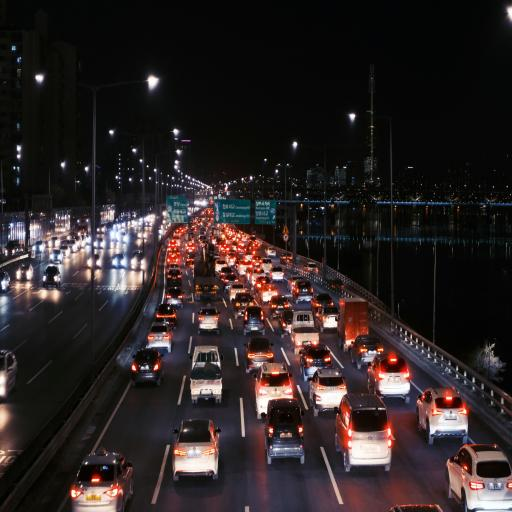car: (446, 445, 511, 511), (336, 394, 391, 471), (71, 448, 133, 511), (173, 420, 221, 480), (417, 388, 468, 444), (266, 399, 304, 463), (253, 363, 293, 418), (368, 354, 410, 403), (308, 368, 347, 416), (299, 344, 333, 382), (132, 348, 163, 386), (351, 335, 383, 369), (244, 337, 273, 373), (0, 350, 17, 397), (147, 322, 172, 352), (198, 304, 219, 334), (315, 305, 338, 332), (244, 306, 264, 335), (234, 291, 254, 319), (156, 304, 177, 329), (269, 295, 290, 318), (293, 280, 313, 303), (311, 294, 333, 314), (246, 267, 265, 288), (279, 309, 293, 337), (43, 266, 61, 287), (390, 504, 442, 511), (166, 287, 183, 308), (254, 274, 270, 296), (167, 264, 182, 287), (229, 283, 246, 302), (260, 285, 278, 302), (222, 274, 238, 293), (17, 264, 34, 281), (288, 275, 303, 292), (131, 251, 144, 270), (237, 260, 251, 277), (167, 248, 181, 265), (269, 267, 284, 282), (66, 238, 80, 253), (0, 272, 10, 292), (219, 266, 234, 279), (50, 249, 63, 263), (329, 279, 344, 291), (261, 259, 273, 274), (33, 241, 46, 254), (113, 254, 125, 268), (226, 251, 237, 266), (61, 244, 72, 258), (305, 262, 318, 273), (185, 253, 195, 267), (185, 242, 196, 254), (49, 237, 60, 248), (80, 234, 88, 249), (280, 256, 293, 265), (94, 254, 102, 268), (110, 239, 121, 249), (95, 238, 105, 249), (252, 255, 262, 266), (118, 231, 127, 243), (245, 248, 252, 261), (266, 248, 275, 257), (67, 232, 77, 240), (86, 234, 91, 245)
